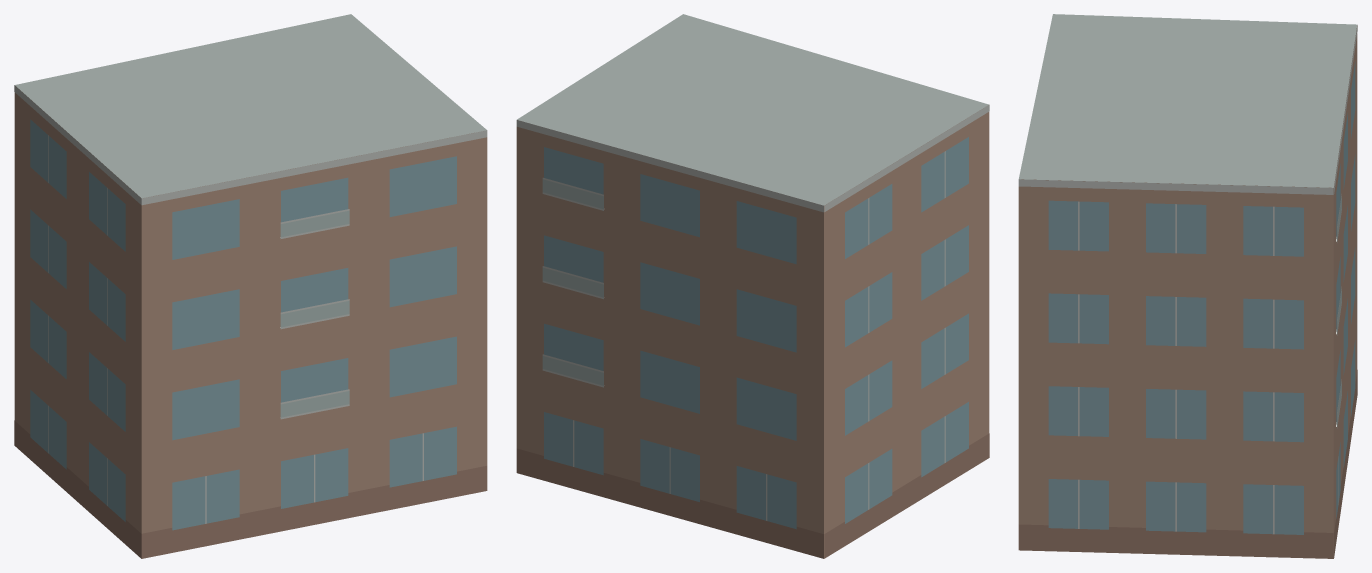
File: survey-upis-33035895.glb
3 views of the same model, side by side, from view 1: azimuth 30°, elevation 25°; view 2: azimuth 150°, elevation 25°; view 3: azimuth 270°, elevation 25° (orthographic). The views are drawn at different scales.
Parts seen in each view (by area): view 1: survey-upis-33035895.tmp; view 2: survey-upis-33035895.tmp; view 3: survey-upis-33035895.tmp.
Boxes of the visible parts, x1=… form: survey-upis-33035895.tmp: x1=14, y1=14, x2=487, y2=558; survey-upis-33035895.tmp: x1=516, y1=14, x2=989, y2=558; survey-upis-33035895.tmp: x1=1018, y1=14, x2=1357, y2=558.
Bounding box in the file's own units: 12.67 × 12.6 × 10.43.
